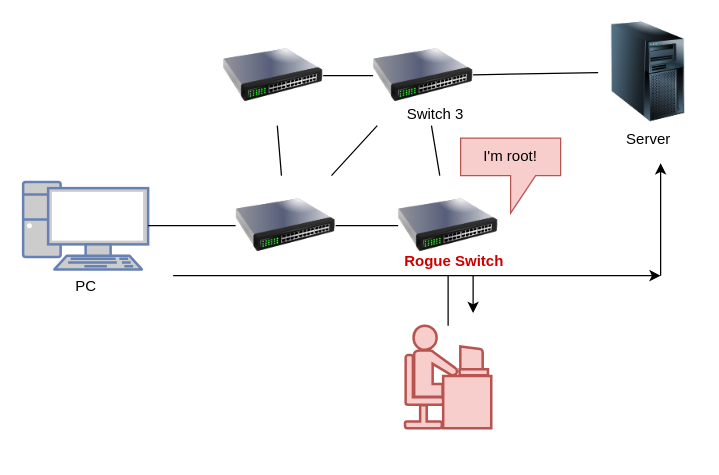
Image size: 719x475. Some labels were removed from this diagram. The box of each missing label's shape, as (x1, y1, x2, y2) in pixels:
Attacker's PC: (403, 324, 492, 429)
Switch 1: (235, 175, 335, 275)
Switch 2: (222, 25, 322, 125)
